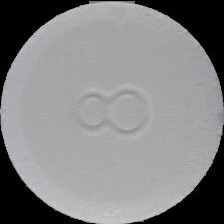63459-548: (0, 0, 224, 224)
